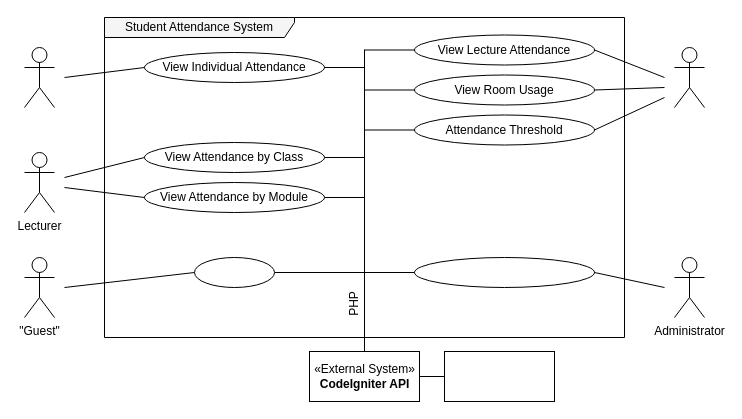
Some shapes in this 742 by 419 pixel diagram are drawn without their labels. The centre of each missing label's shape, as x and y in pixels:
"Login" goes at (x=234, y=272).
"Manage Attendance Records" goes at (x=504, y=272).
"Manager" goes at (x=689, y=77).
"Student" goes at (x=39, y=77).
"«External System» Database" goes at (x=499, y=376).
